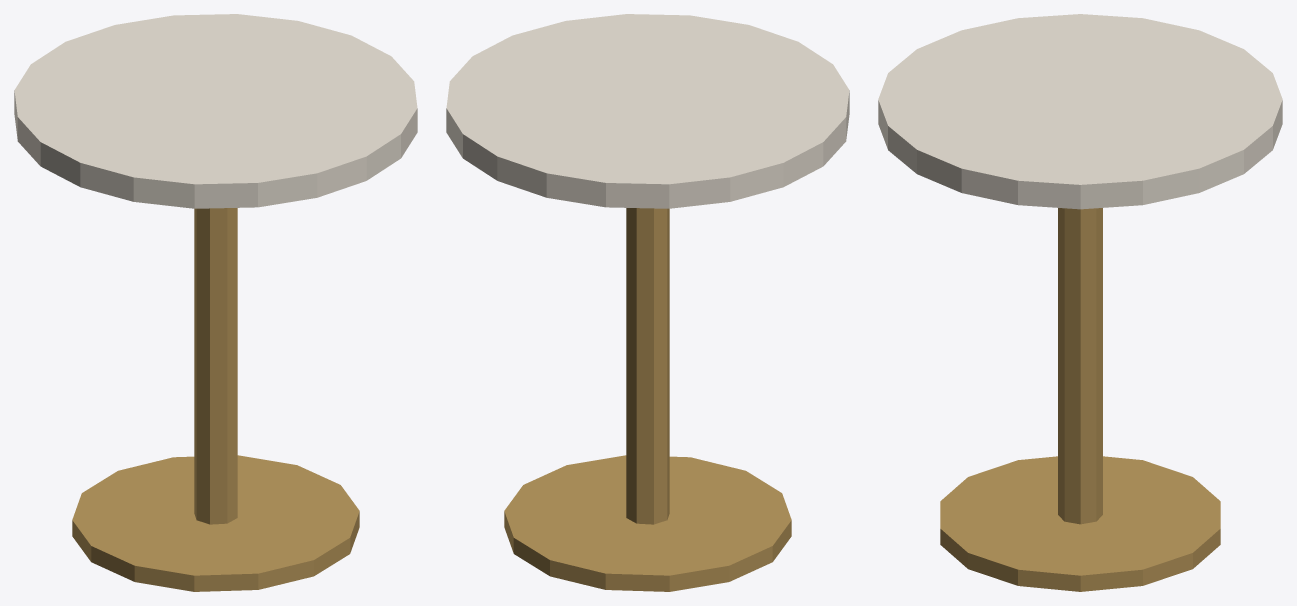
File: mesa_lateral.obj
The picture shows the model from 3 angles, left to right: view 1: azimuth 30°, elevation 25°; view 2: azimuth 150°, elevation 25°; view 3: azimuth 270°, elevation 25°; orthographic projection.
Parts seen in each view (by area): view 1: mesa_lateral; view 2: mesa_lateral; view 3: mesa_lateral.
Part boxes in pixels (bbox=[...]): mesa_lateral: bbox=[14, 14, 417, 591]; mesa_lateral: bbox=[446, 14, 849, 591]; mesa_lateral: bbox=[878, 14, 1282, 591].
Size of the model in its own units: 0.45 by 0.53 by 0.45.
